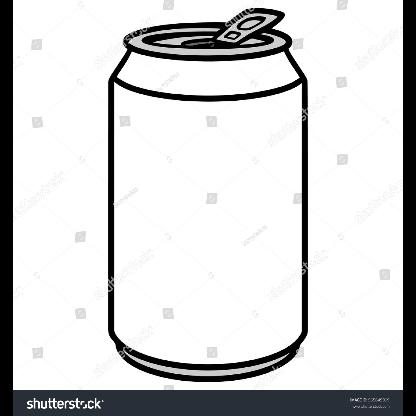Lid_Open: (183, 2, 285, 64)
Tin_Can: (100, 6, 314, 384)
